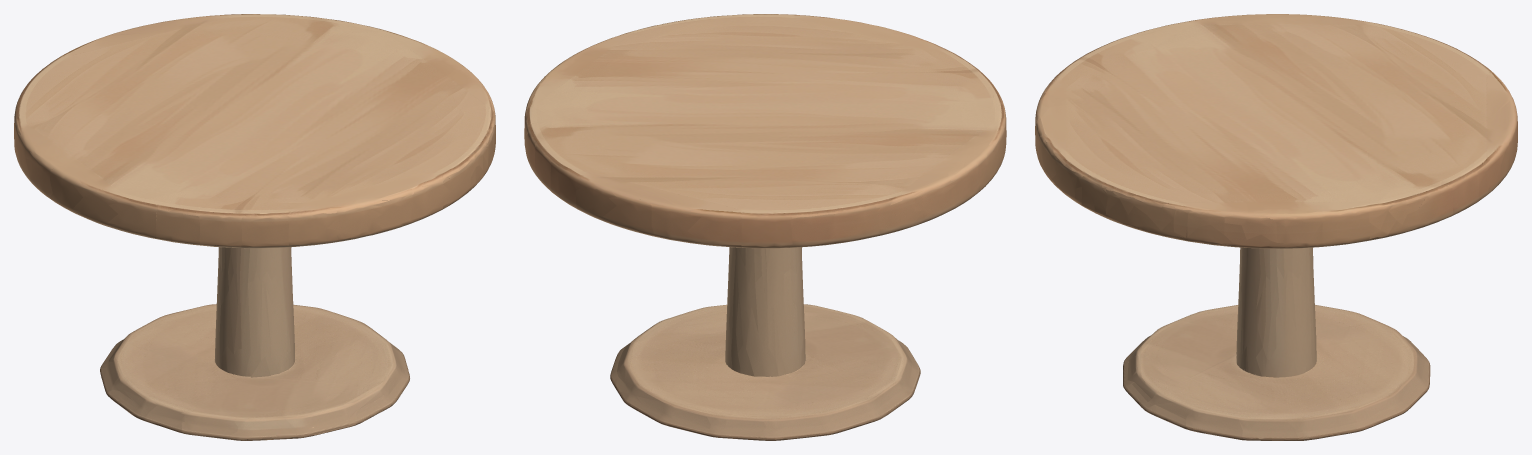
File: raw_table_round.glb
3 renders of one model, left to right at view 1: azimuth 30°, elevation 25°; view 2: azimuth 150°, elevation 25°; view 3: azimuth 270°, elevation 25°, orthographic.
Size of the model in its own units: 1.9 by 1.16 by 1.9.
Materials: 1 (1 with a texture image).
